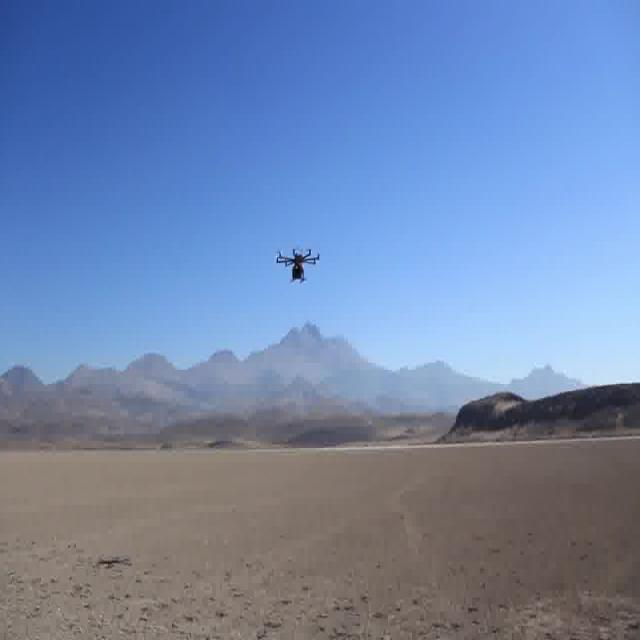drone: (272, 230, 327, 292)
